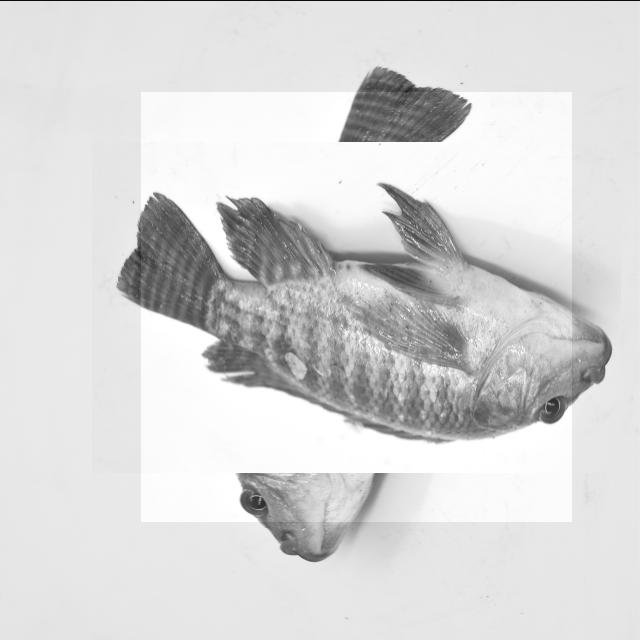Columnaris Disease: (141, 91, 572, 521)
